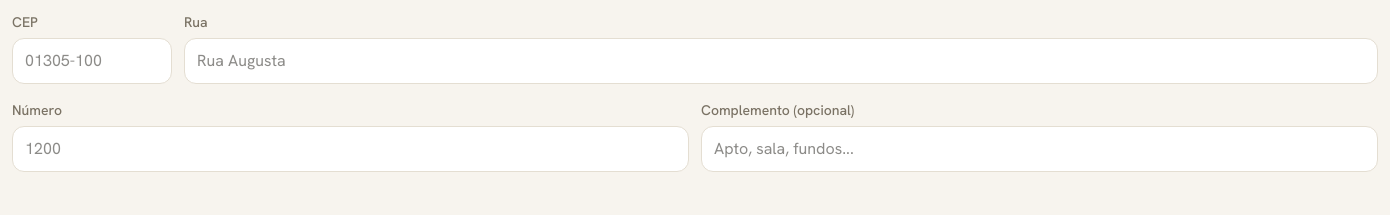
Test case: AddressFields › mostra erro e não trava o campo quando o CEP não existe
Type "00000000" into the field labelled "CEP" at (92, 61), box [12, 38, 172, 84]
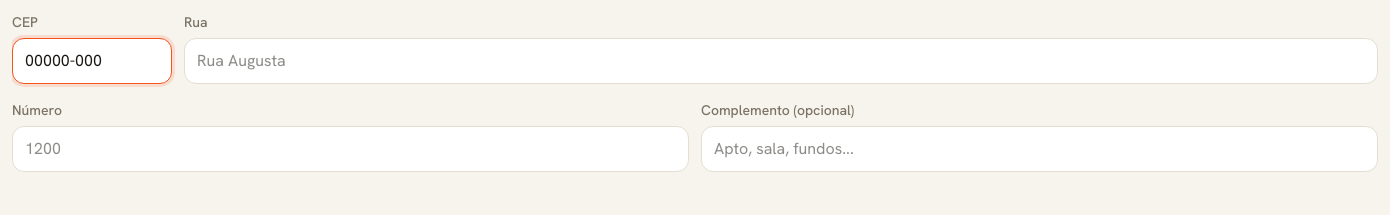
Press Tab
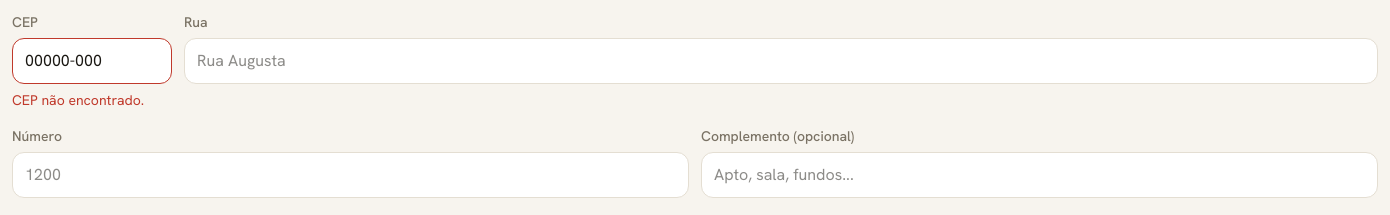
Check: the text "CEP não encontrado." is shown, box [12, 91, 144, 109]
